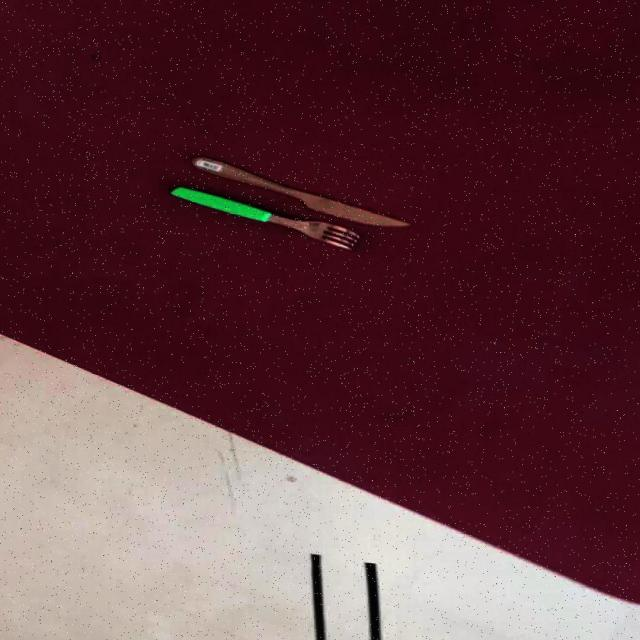Fork: (171, 185, 362, 251)
Knife: (192, 154, 414, 228)
